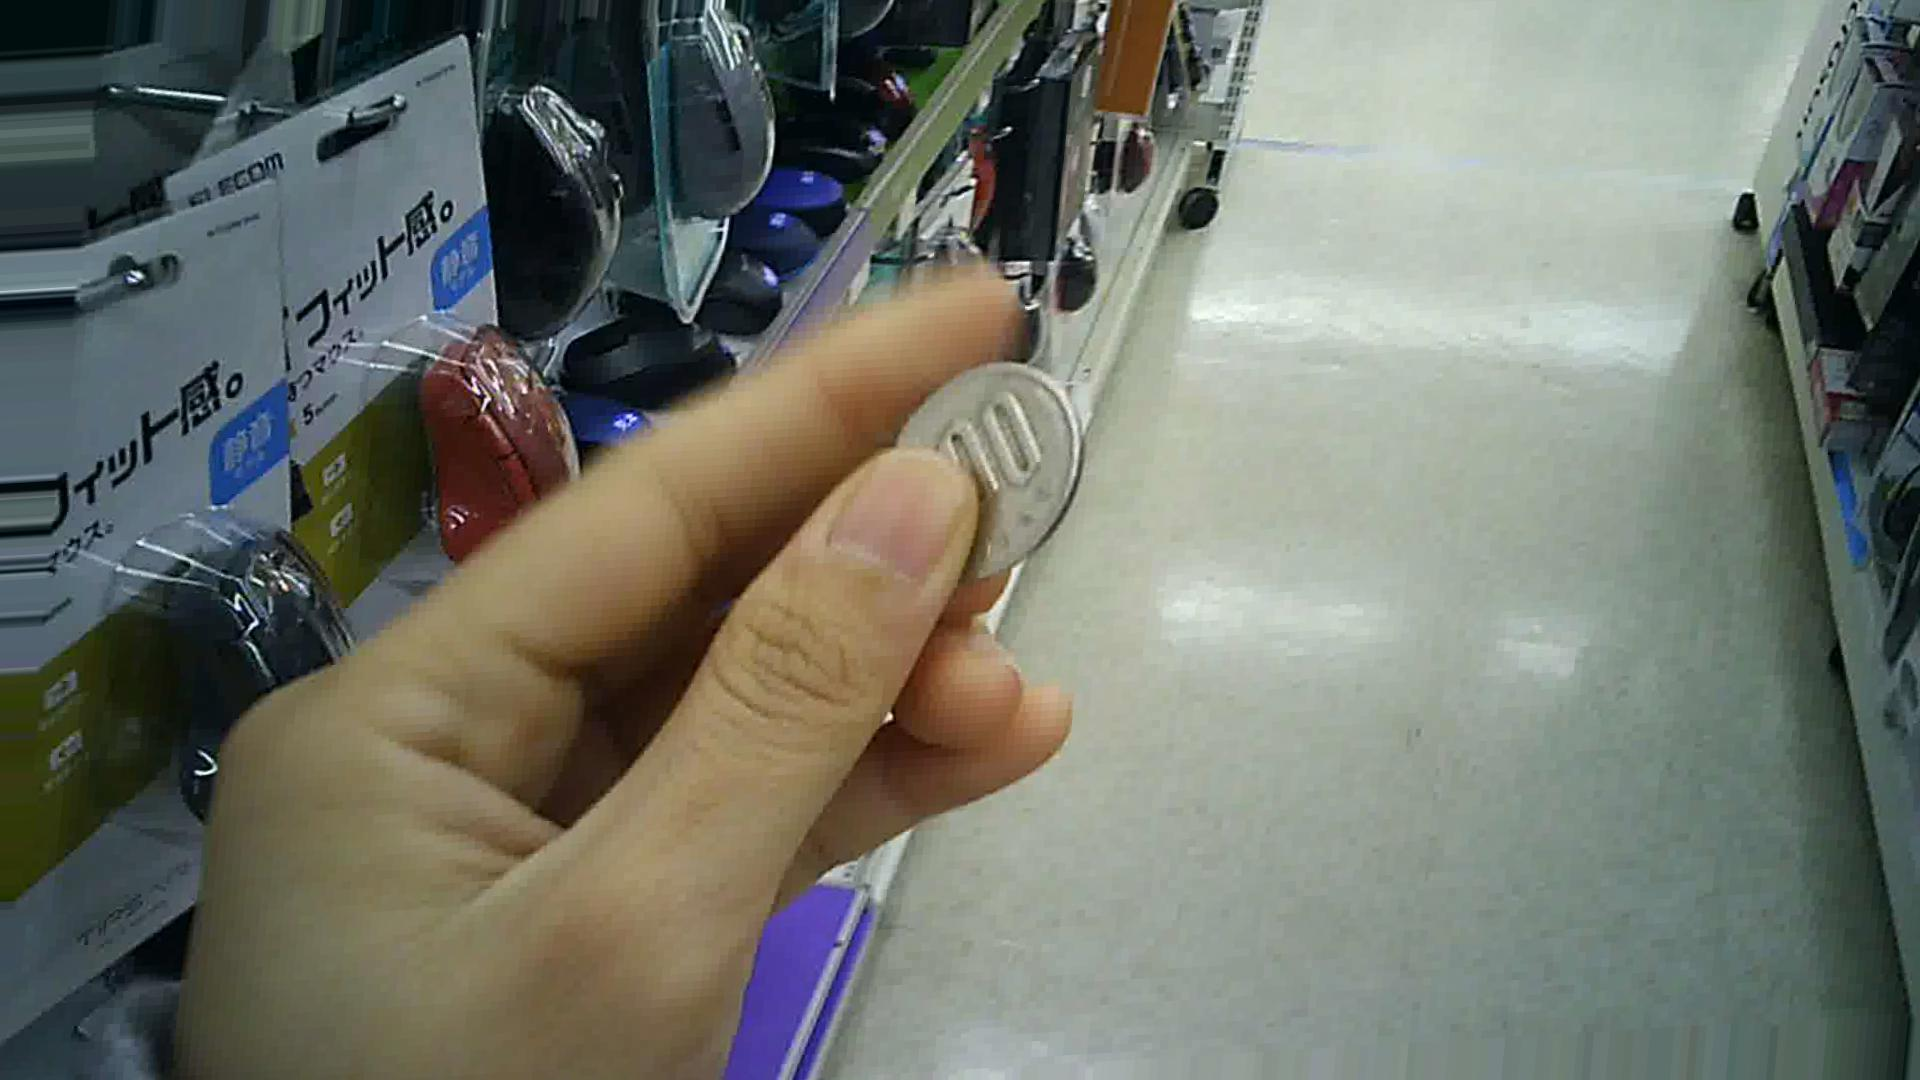100 Yen: (877, 367, 1073, 578)
